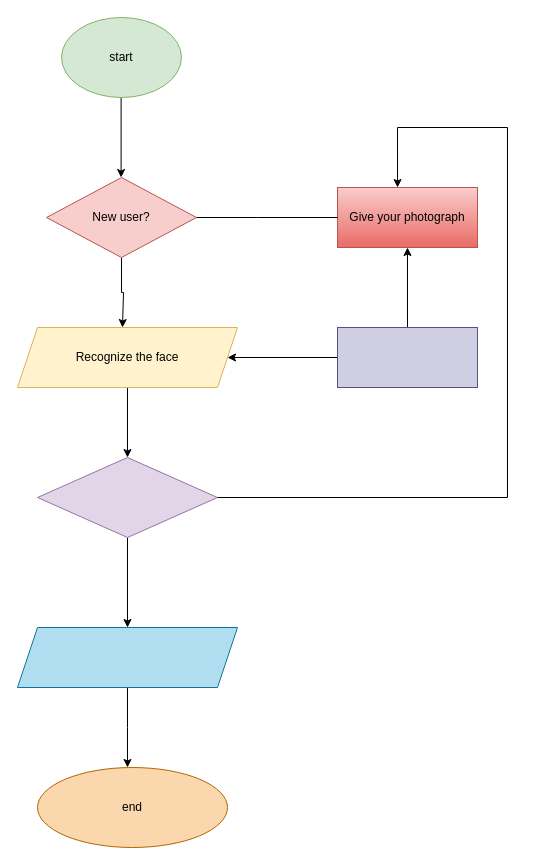
This 533x865 diagram has some shape labels left out. The shapes that lost their labels are listed below. From the top down, each one's centre as x and y in pixels, then its label:
At point 407,357: "store the face data in folder on your name".
At point 127,497: "Face recogniged".
At point 127,657: "store in csv file with registration numbers & date time of entry".
